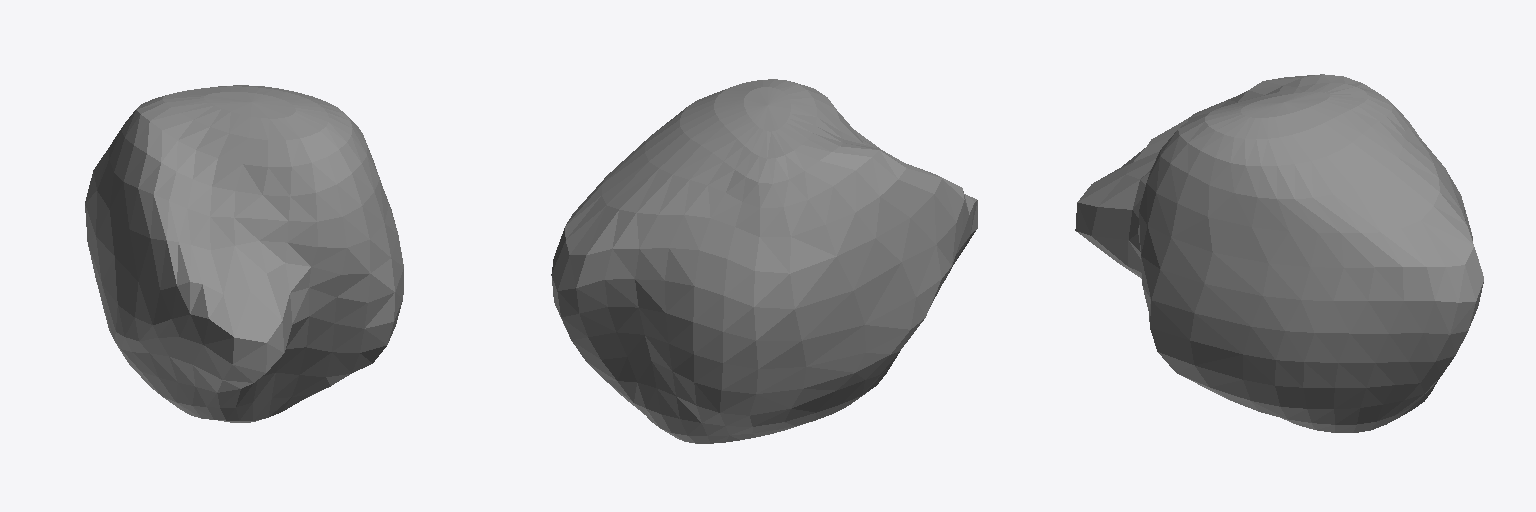
The model's file is meteor_03.obj.
3 views of the same model, side by side, from view 1: azimuth 30°, elevation 25°; view 2: azimuth 150°, elevation 25°; view 3: azimuth 270°, elevation 25° (orthographic).
Parts seen in each view (by area): view 1: Meteor_03_001; view 2: Meteor_03_001; view 3: Meteor_03_001.
Part boxes in pixels (x1,y1,x2,y2): Meteor_03_001: (85,85,403,422); Meteor_03_001: (551,79,977,443); Meteor_03_001: (1075,74,1483,432).
Bounding box in the file's own units: 201 × 198 × 241.